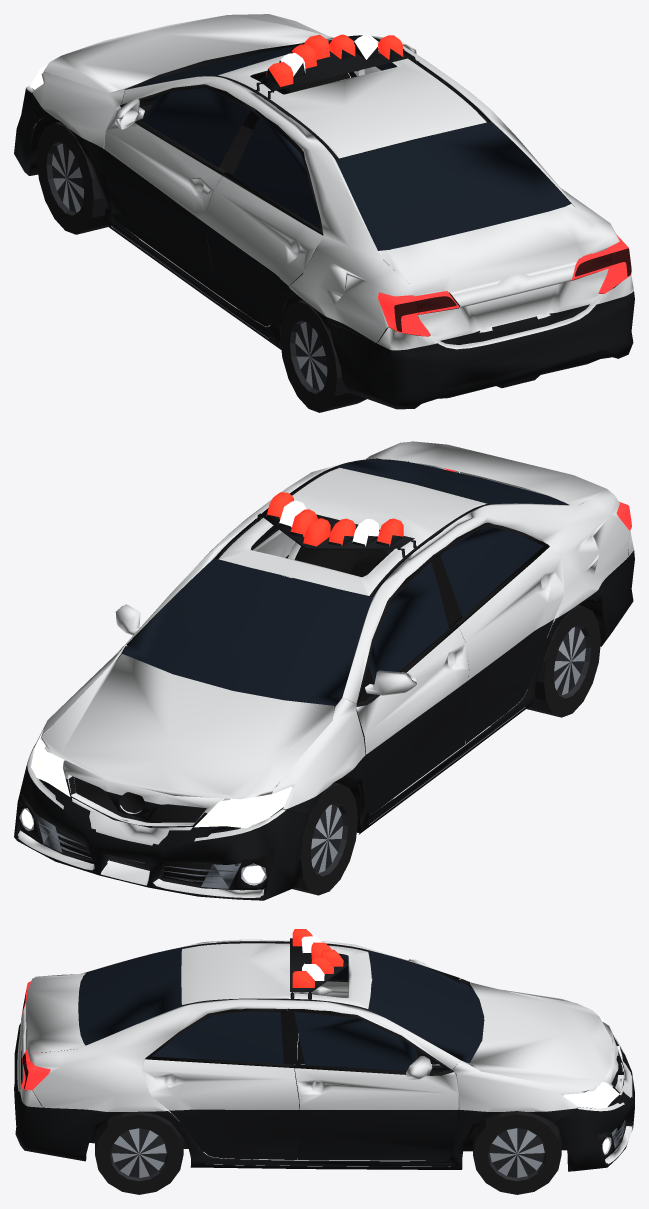
Rendered from car_police.glb.
The picture shows the model from 3 angles, top to bottom: view 1: azimuth 30°, elevation 25°; view 2: azimuth 150°, elevation 25°; view 3: azimuth 270°, elevation 25°; orthographic projection. The views are drawn at different scales.
Parts seen in each view (by area): view 1: body, wheel_f, wheel_r, beacon; view 2: body, wheel_r, wheel_f, beacon; view 3: body, wheel_f, wheel_r, beacon.
Boxes of the visible parts, box(x1,y1,x2,y2) form: body: box(14, 14, 634, 409); wheel_f: box(36, 121, 107, 234); wheel_r: box(280, 300, 366, 412); beacon: box(253, 34, 418, 99); body: box(14, 441, 634, 900); wheel_r: box(526, 605, 600, 717); wheel_f: box(292, 782, 357, 895); beacon: box(254, 492, 419, 558); body: box(14, 939, 634, 1171); wheel_f: box(473, 1111, 561, 1194); wheel_r: box(95, 1112, 183, 1194); beacon: box(290, 929, 348, 1000).
Size of the model in its own units: 2.1 by 1.69 by 4.9.
Materials: 2 (2 with a texture image).
